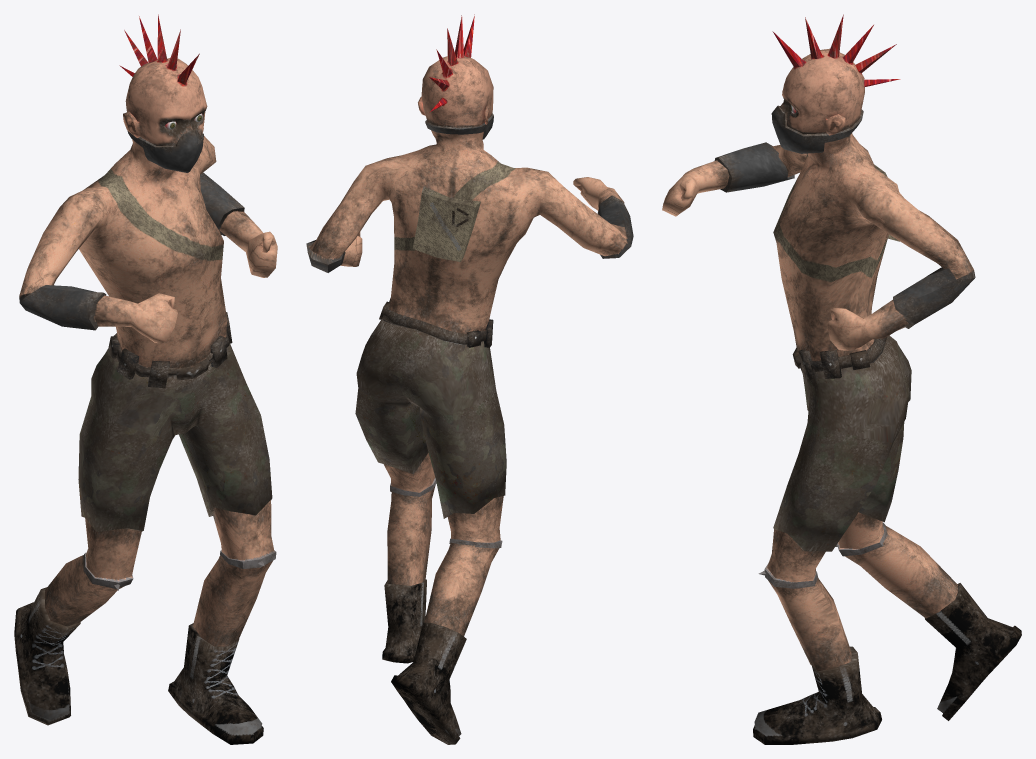
File: Anim_ataque_d2_npc2.0025.obj
3 renders of one model, left to right at view 1: azimuth 30°, elevation 25°; view 2: azimuth 150°, elevation 25°; view 3: azimuth 270°, elevation 25°, orthographic. The views are drawn at different scales.
Parts seen in each view (by area): view 1: polySurface1; view 2: polySurface1; view 3: polySurface1.
Boxes of the visible parts, <box> form: polySurface1: <box>14,14,277,744</box>; polySurface1: <box>306,14,633,744</box>; polySurface1: <box>662,14,1021,744</box>.
Bounding box in the file's own units: 4.21 × 10.2 × 4.56.
